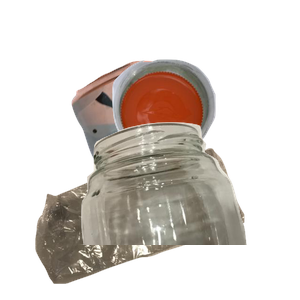glass: (74, 120, 300, 300)
metal: (69, 58, 300, 238)
plastic: (110, 57, 300, 205)
trash: (33, 145, 270, 300)
